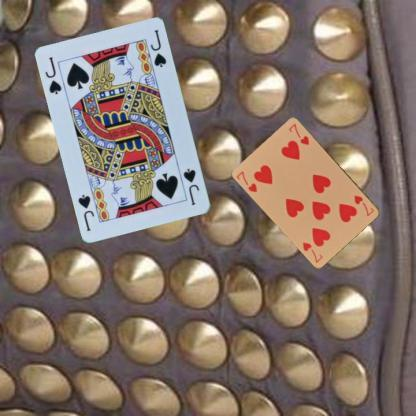7h: (234, 168, 259, 194), (352, 192, 376, 218)
Js: (42, 54, 63, 96), (180, 166, 200, 207)
